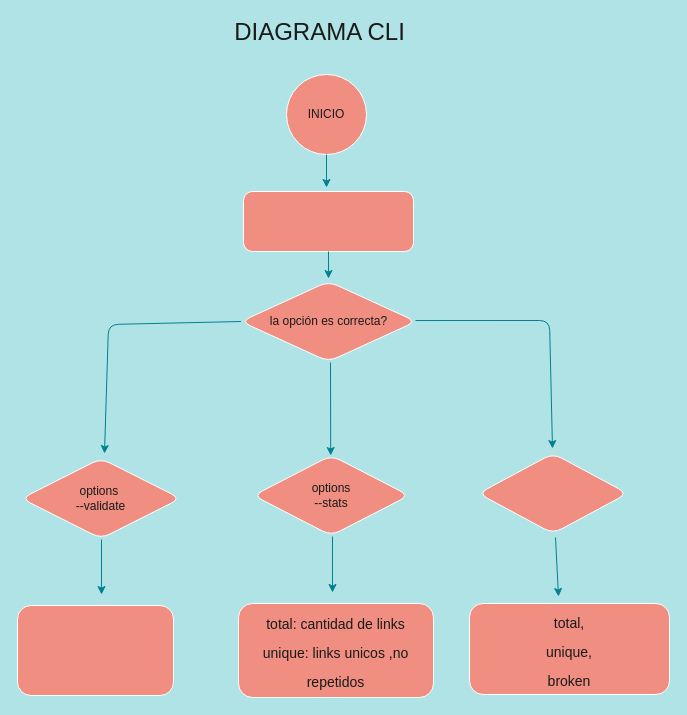
The diagram is 687 pixels wide and 715 high, and some of its shapes have lost their labels. The shapes that lost their labels are listed below. From the top down, each one's centre as x and y in pixels, then its label:
At (x=328, y=221): "md-links (route {options})".
At (x=553, y=493): "options --validate --stats".
At (x=95, y=650): "href,text,file,status,ok".
